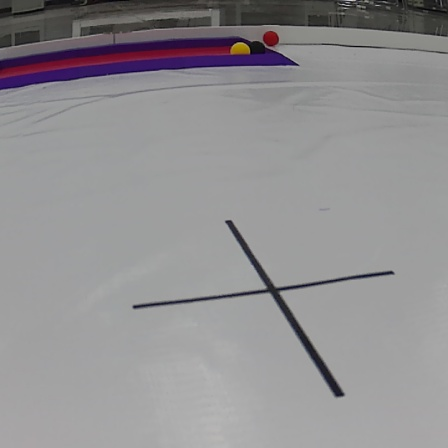black: (252, 39, 268, 55)
red: (264, 30, 279, 47)
red_aim: (0, 34, 305, 91)
yellow: (231, 39, 251, 56)
